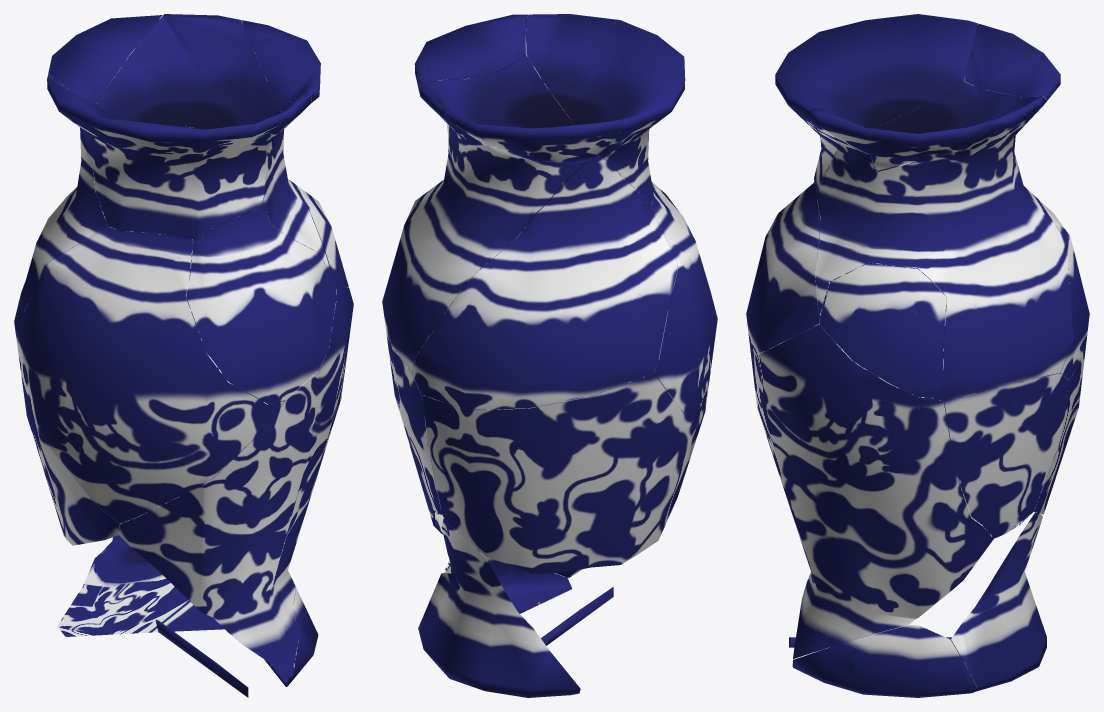
File: VaseBrokenModel.fbx
3 renders of one model, left to right at view 1: azimuth 30°, elevation 25°; view 2: azimuth 150°, elevation 25°; view 3: azimuth 270°, elevation 25°, orthographic.
Visible parts, largest first — view 1: Cube_cell.013, Cube_cell.001, Cube_cell.005, Cube_cell.008, Cube_cell.003, Cube_cell, Cube_cell.016, Cube_cell.002, Cube_cell.006, Cube_cell.014, Cube_cell.009, Cube_cell.004; view 2: Cube_cell.006, Cube_cell.002, Cube_cell.003, Cube_cell.008, Cube_cell, Cube_cell.013, Cube_cell.014, Cube_cell.016, Cube_cell.010, Cube_cell.009; view 3: Cube_cell.001, Cube_cell.003, Cube_cell.008, Cube_cell.010, Cube_cell.004, Cube_cell.009, Cube_cell, Cube_cell.005, Cube_cell.016, Cube_cell.014, Cube_cell.006, Cube_cell.002.
Part boxes in pixels (bbox=[...]): Cube_cell.013: bbox=[16, 226, 284, 522]; Cube_cell.001: bbox=[119, 284, 353, 675]; Cube_cell.005: bbox=[186, 207, 336, 404]; Cube_cell.008: bbox=[47, 74, 312, 238]; Cube_cell.003: bbox=[96, 14, 333, 278]; Cube_cell: bbox=[57, 523, 248, 697]; Cube_cell.016: bbox=[48, 15, 162, 106]; Cube_cell.002: bbox=[15, 330, 120, 545]; Cube_cell.006: bbox=[14, 132, 108, 330]; Cube_cell.014: bbox=[241, 20, 320, 108]; Cube_cell.009: bbox=[264, 588, 318, 686]; Cube_cell.004: bbox=[296, 185, 348, 287]; Cube_cell.006: bbox=[412, 155, 677, 409]; Cube_cell.002: bbox=[422, 373, 693, 573]; Cube_cell.003: bbox=[382, 54, 589, 372]; Cube_cell.008: bbox=[526, 14, 685, 205]; Cube_cell: bbox=[419, 518, 613, 697]; Cube_cell.013: bbox=[650, 186, 717, 460]; Cube_cell.014: bbox=[414, 14, 528, 83]; Cube_cell.016: bbox=[444, 108, 621, 162]; Cube_cell.010: bbox=[384, 315, 441, 514]; Cube_cell.009: bbox=[418, 550, 572, 631]; Cube_cell.001: bbox=[752, 324, 993, 659]; Cube_cell.003: bbox=[815, 82, 1073, 401]; Cube_cell.008: bbox=[775, 14, 977, 191]; Cube_cell.010: bbox=[944, 373, 1068, 538]; Cube_cell.004: bbox=[819, 263, 946, 397]; Cube_cell.009: bbox=[792, 625, 976, 697]; Cube_cell: bbox=[789, 512, 1046, 693]; Cube_cell.005: bbox=[746, 178, 820, 354]; Cube_cell.016: bbox=[964, 23, 1060, 100]; Cube_cell.014: bbox=[810, 109, 991, 170]; Cube_cell.006: bbox=[1023, 186, 1089, 380]; Cube_cell.002: bbox=[945, 352, 1085, 514].
Size of the model in its own units: 141 by 255 by 138.
